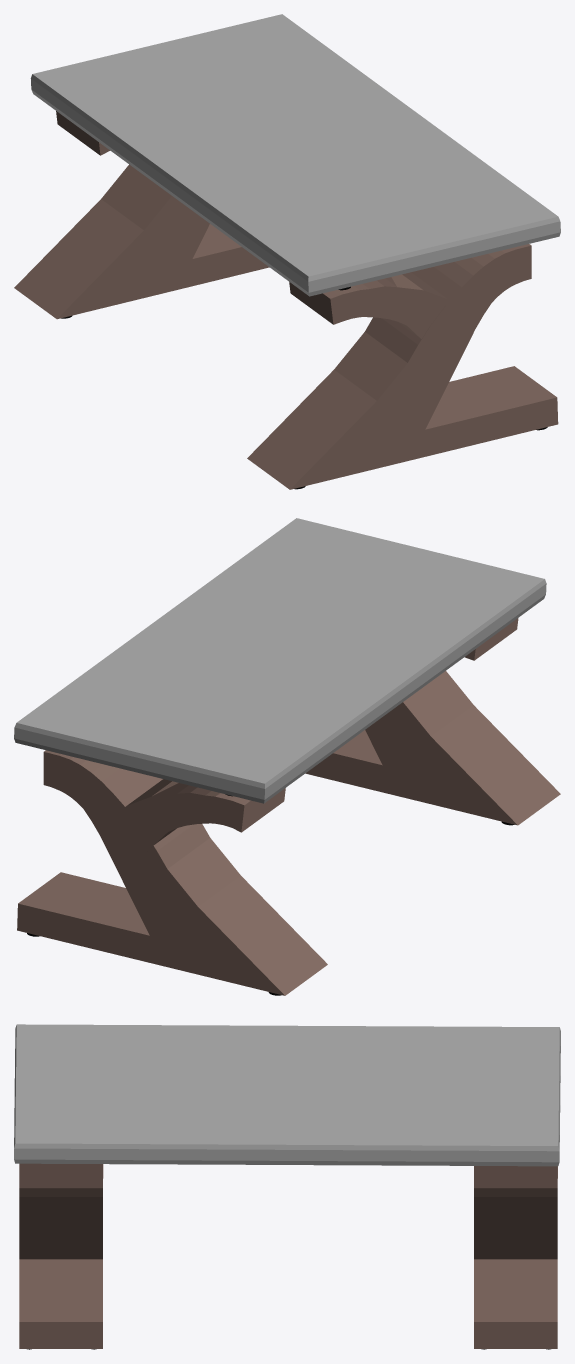
Rendered from kmu_stampTable_001.fbx.
3 renders of one model, top to bottom at view 1: azimuth 30°, elevation 25°; view 2: azimuth 150°, elevation 25°; view 3: azimuth 270°, elevation 25°, orthographic. The views are drawn at different scales.
Parts seen in each view (by area): view 1: polySurface56, polySurface55, polySurface57, polySurface37, polySurface17; view 2: polySurface56, polySurface57, polySurface55, polySurface17; view 3: polySurface56, polySurface55, polySurface57.
Boxes of the visible parts, bbox=[...] form: polySurface56: bbox=[30, 14, 560, 296]; polySurface55: bbox=[247, 244, 558, 489]; polySurface57: bbox=[14, 164, 269, 319]; polySurface37: bbox=[289, 272, 449, 338]; polySurface17: bbox=[56, 111, 110, 155]; polySurface56: bbox=[14, 518, 546, 803]; polySurface57: bbox=[17, 750, 327, 995]; polySurface55: bbox=[305, 671, 560, 825]; polySurface17: bbox=[115, 779, 285, 851]; polySurface56: bbox=[14, 1024, 560, 1166]; polySurface55: bbox=[19, 1163, 102, 1348]; polySurface57: bbox=[474, 1166, 557, 1348].
Bounding box in the file's own units: 33.51 × 25.28 × 60.15.
